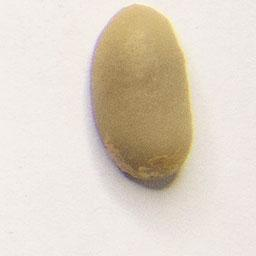longberry: (86, 1, 199, 188)
